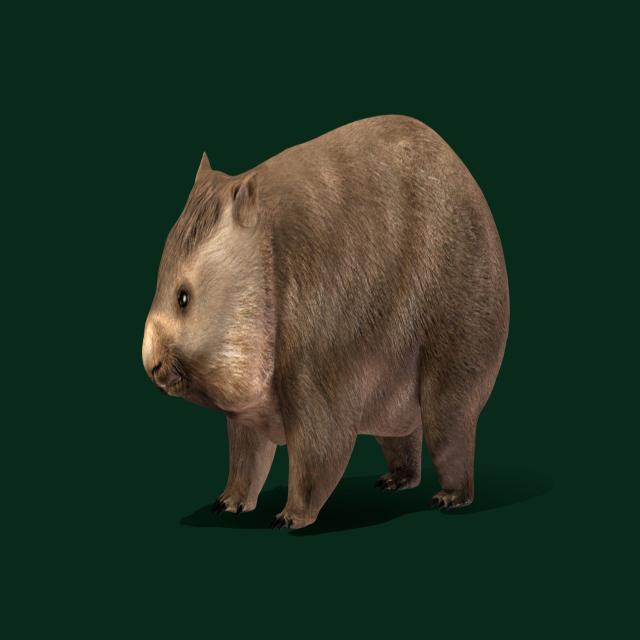Wombat: (134, 96, 515, 547)
